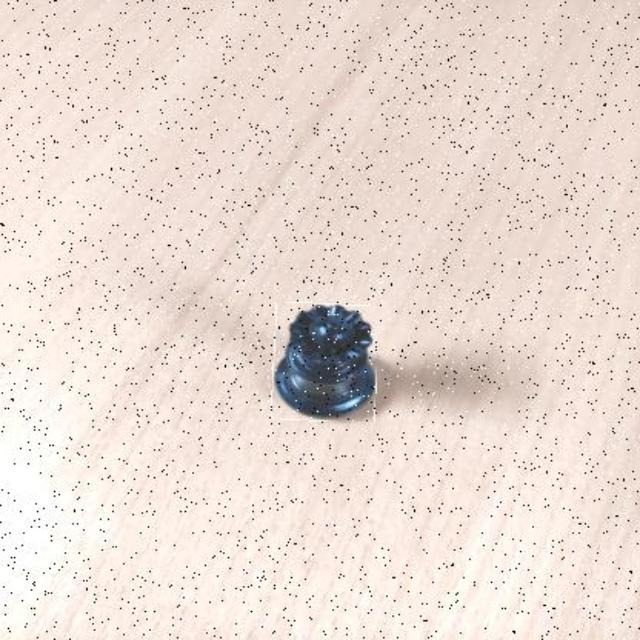black-queen: (273, 303, 377, 423)
